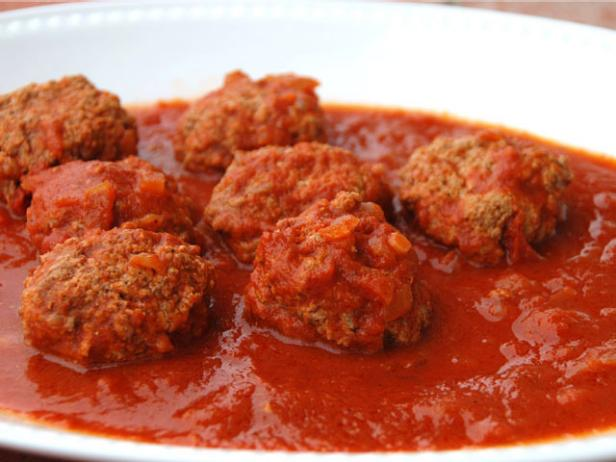meatballs: (1, 72, 586, 269), (240, 219, 431, 359), (20, 233, 219, 363)
